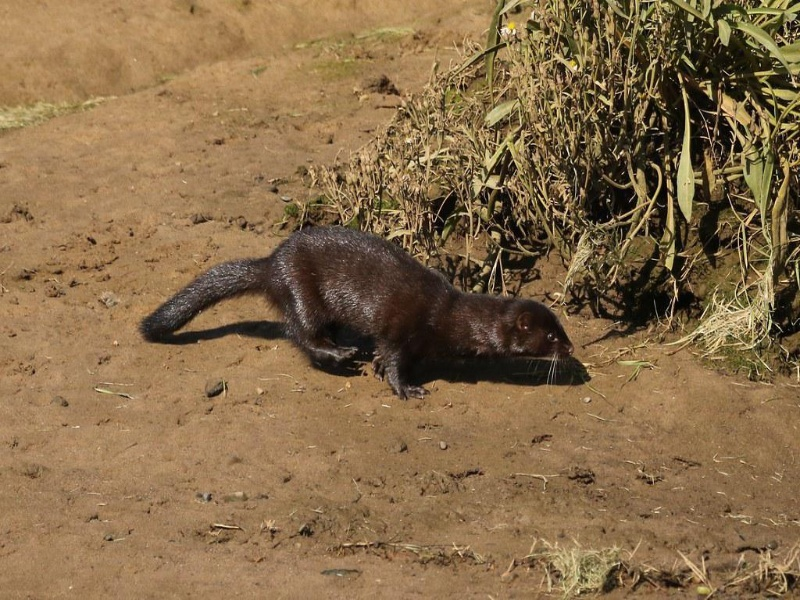minkish: (136, 222, 578, 401)
